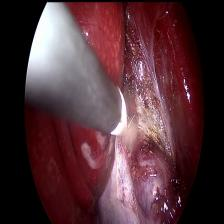Hook: (104, 90, 137, 138)
